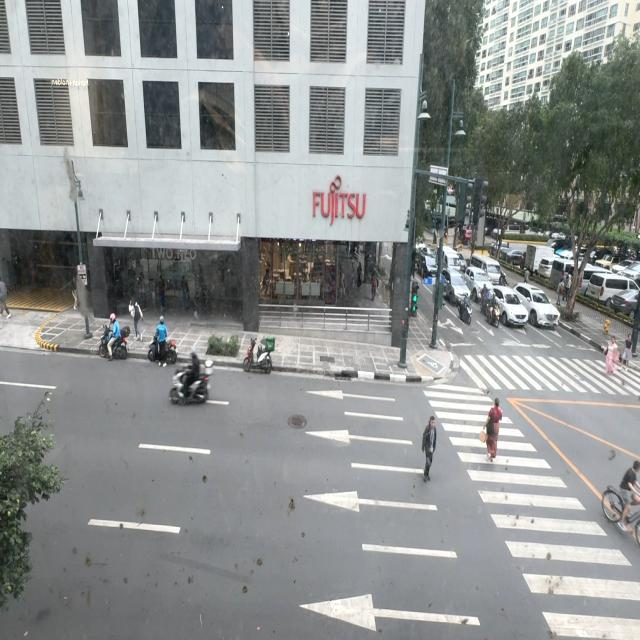jaywalking: (418, 410, 439, 490)
